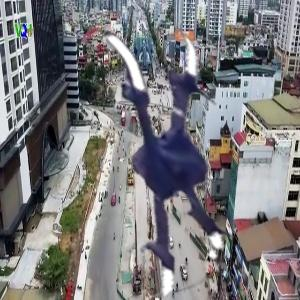drone: (10, 27, 277, 294)
